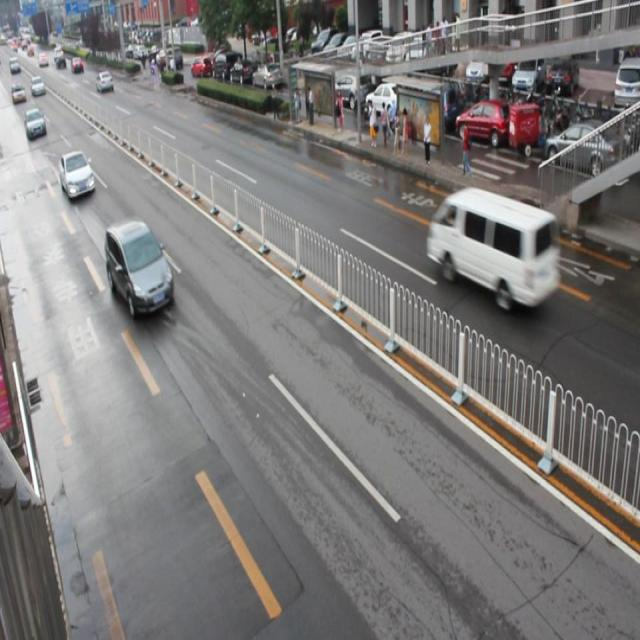car: (59, 148, 96, 200)
truck: (426, 187, 559, 306), (106, 218, 173, 314)
